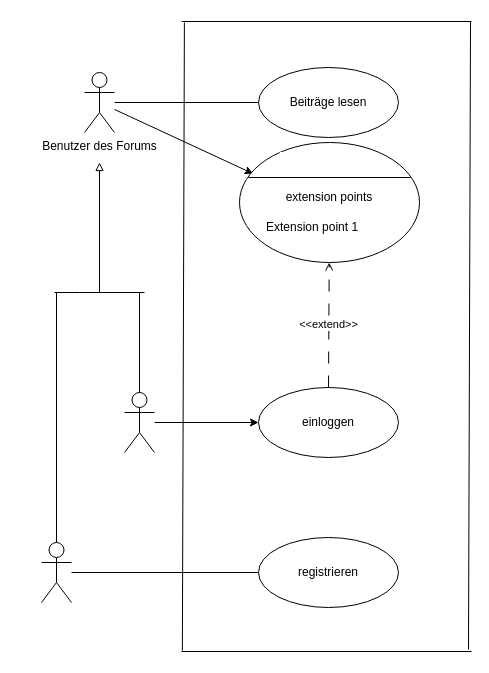
Image size: 489x673. Some labels were removed from this diagram. Here are the shapes that lost their labels. From the top down, the box of each, then its label:
(124, 392, 154, 452): Regestrierte Benutzer
(40, 542, 72, 602): Unregestrierte Benutzer
